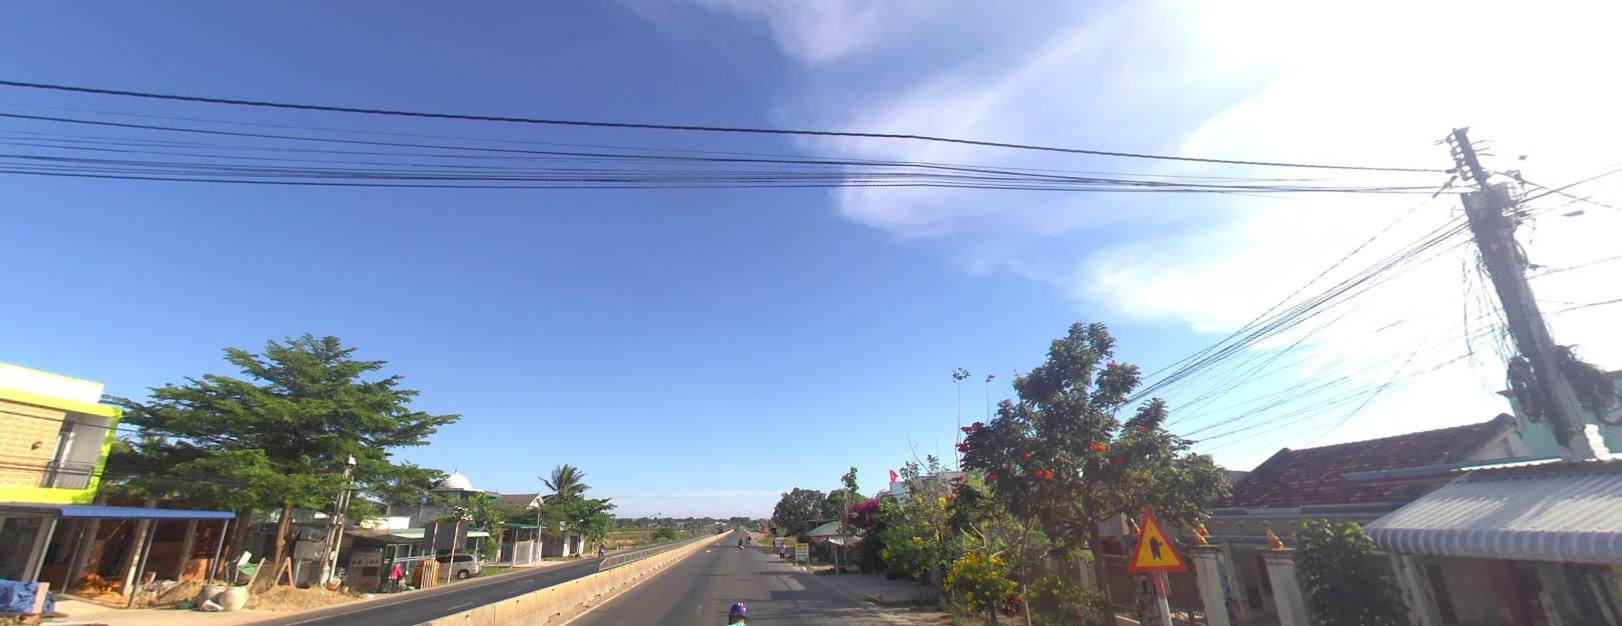Nguy hiem: (1125, 498, 1189, 573), (1127, 506, 1188, 572), (1127, 507, 1187, 571)
